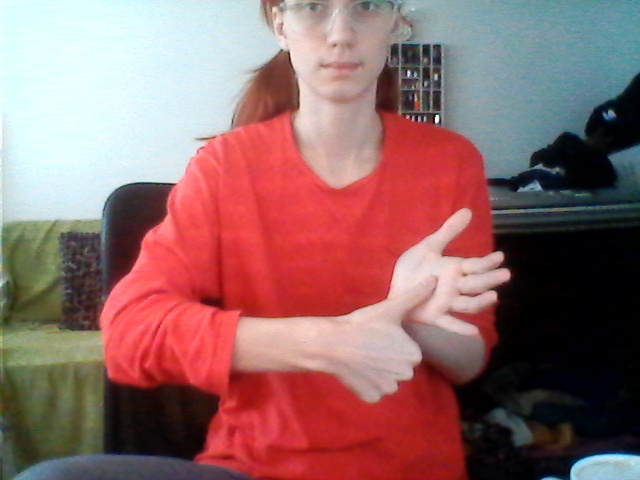pivo: (343, 205, 518, 420)
